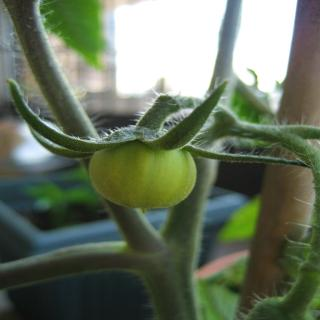tomato: (6, 79, 320, 212)
